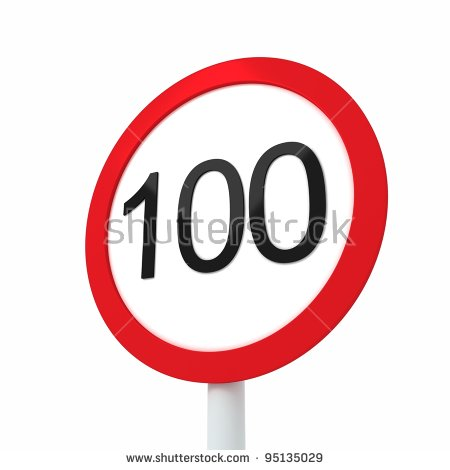Speed_limit_100km: (86, 57, 390, 384)
